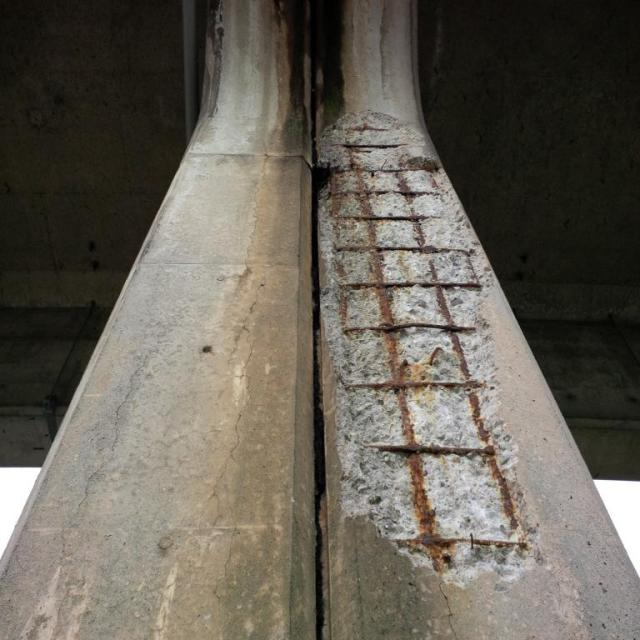spalling: (317, 110, 541, 589)
